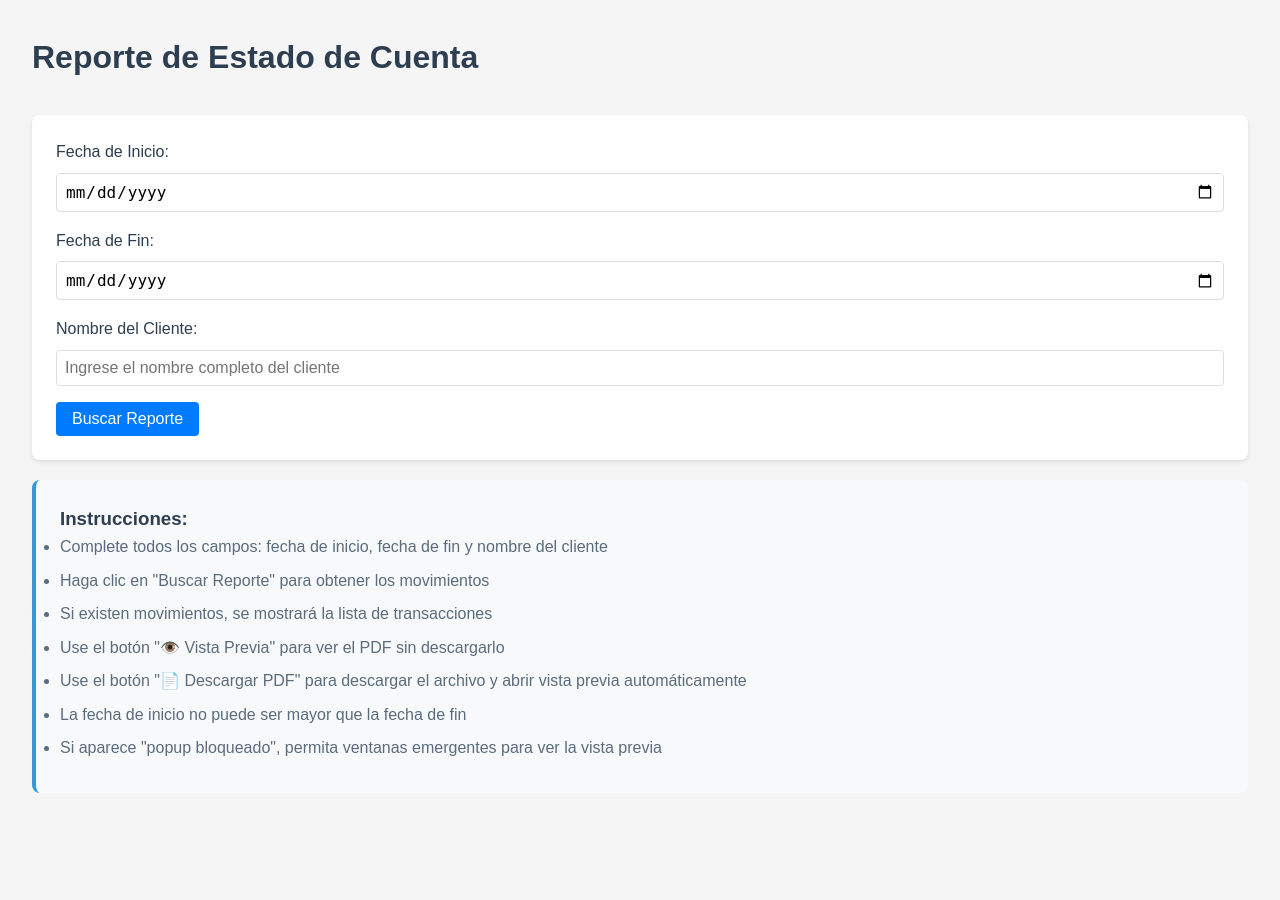
Test: TransactionReport › should handle API error
Type "2025-09-01" into the date field labelled "Fecha de Inicio:" at (640, 192), box [56,173,1224,212]
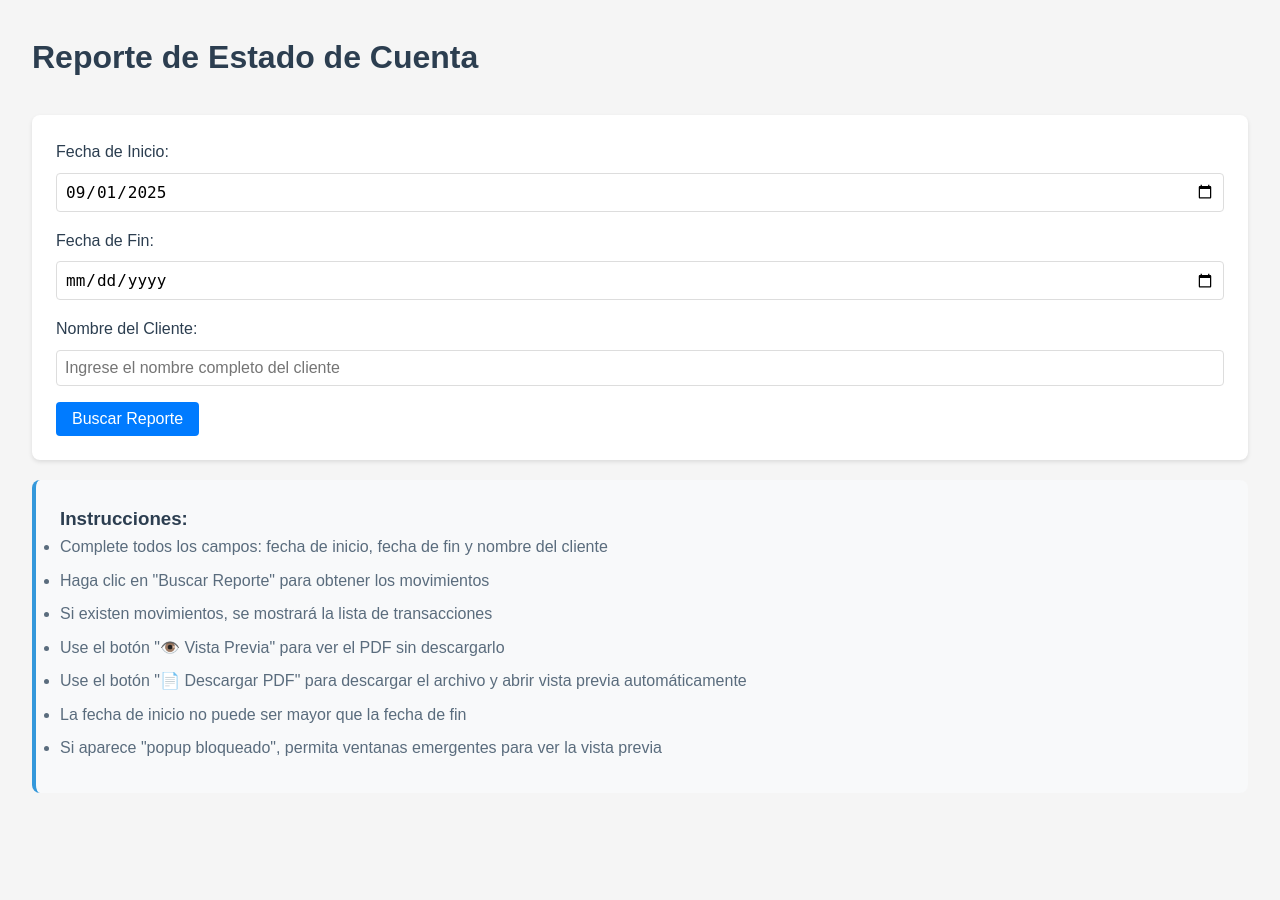
Type "2025-09-29" into the date field labelled "Fecha de Fin:" at (640, 281), box [56,261,1224,300]
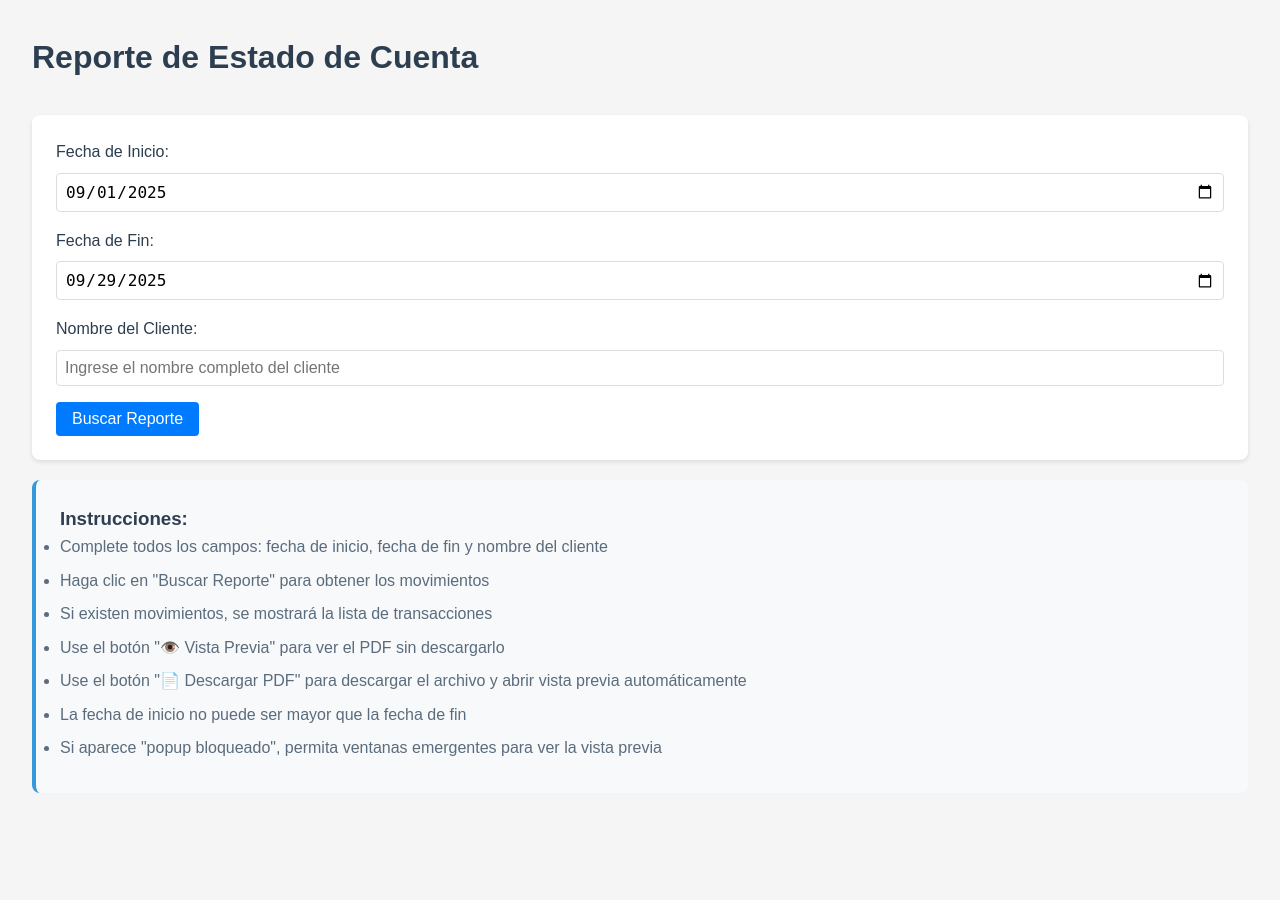
Type "Jose Lema" into the field labelled "Nombre del Cliente:" at (640, 368), box [56,350,1224,386]
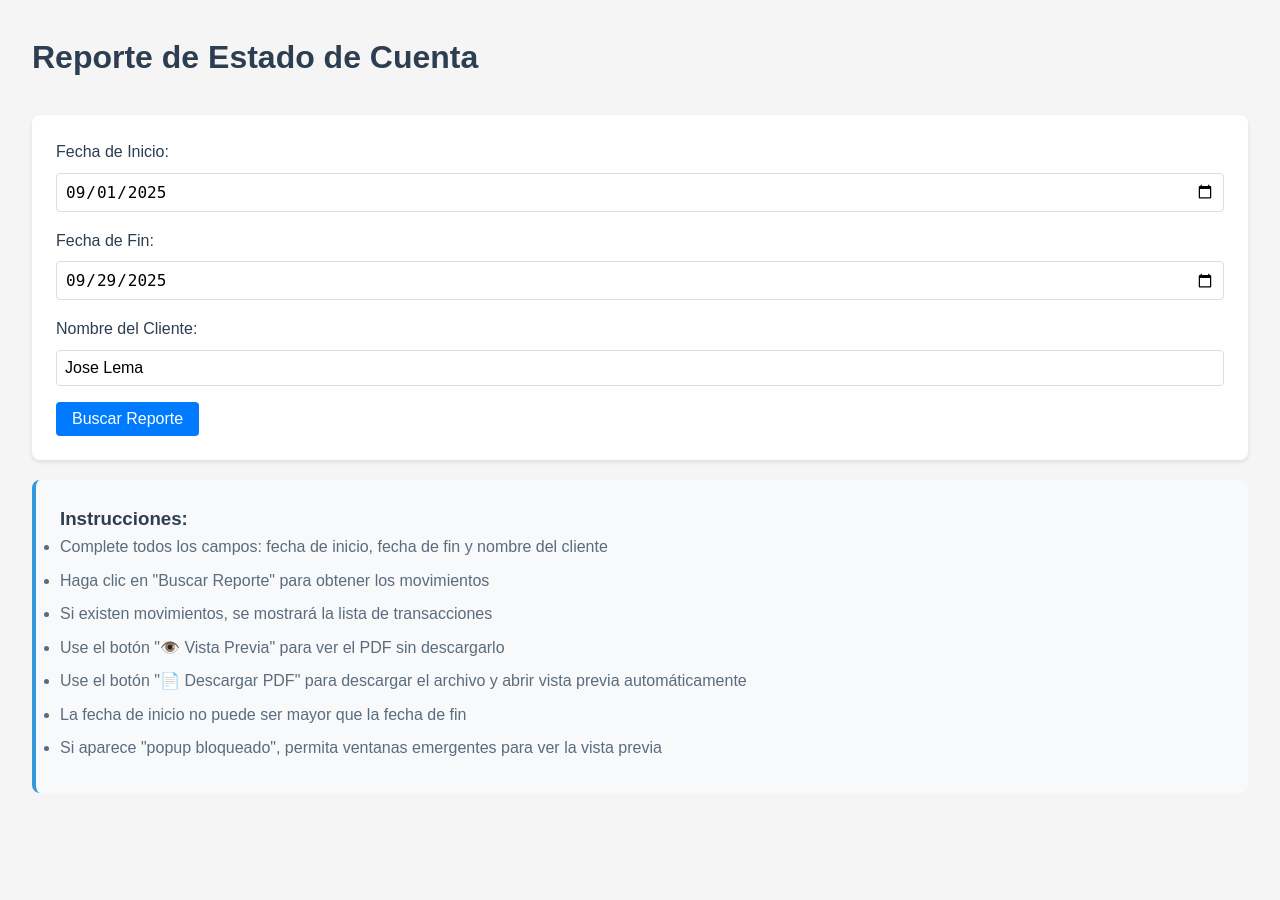
Click the button "Buscar Reporte" at (128, 419), box [56,402,199,436]
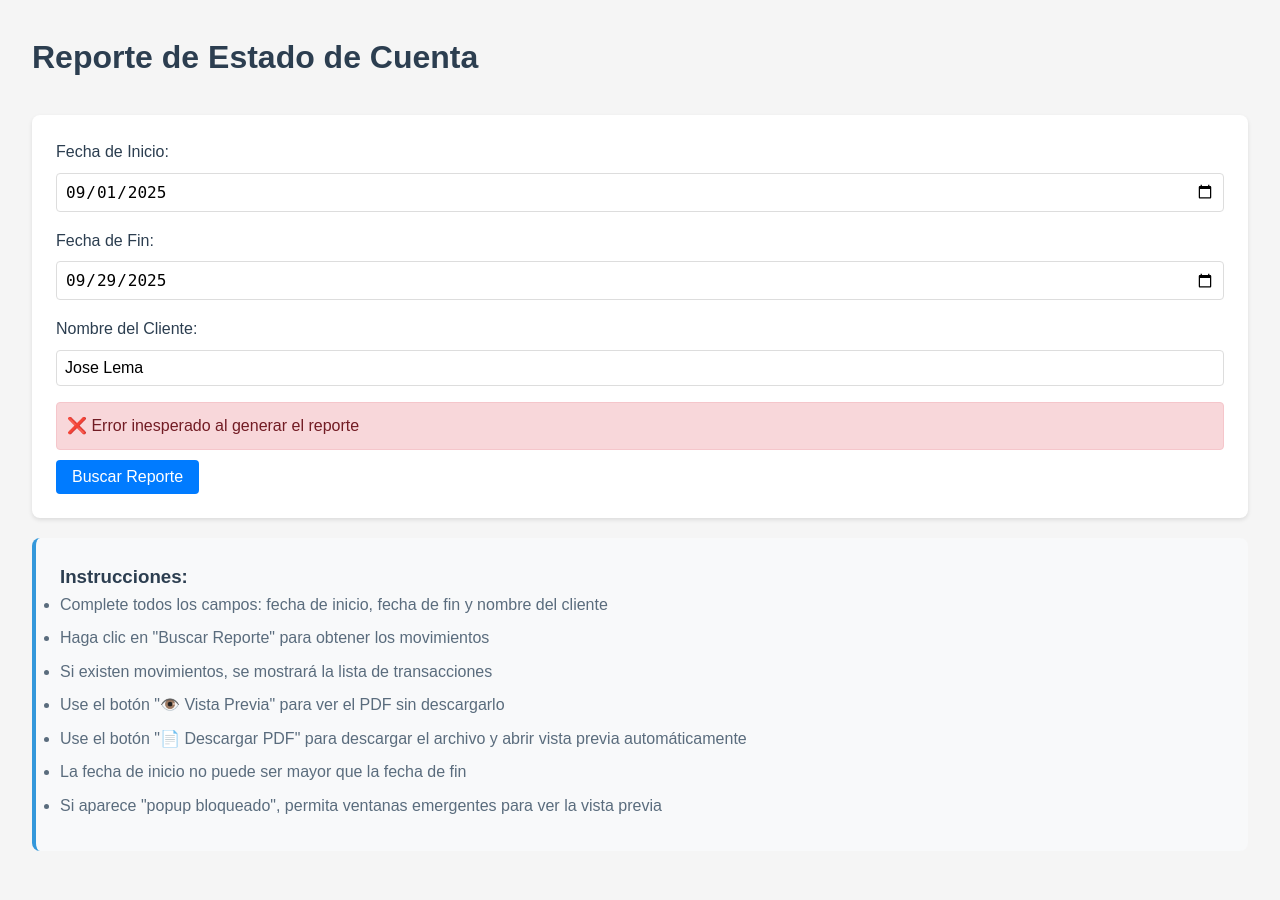
Result: the text "❌ Error inesperado al generar el reporte" is shown at [56,402,1224,450]
